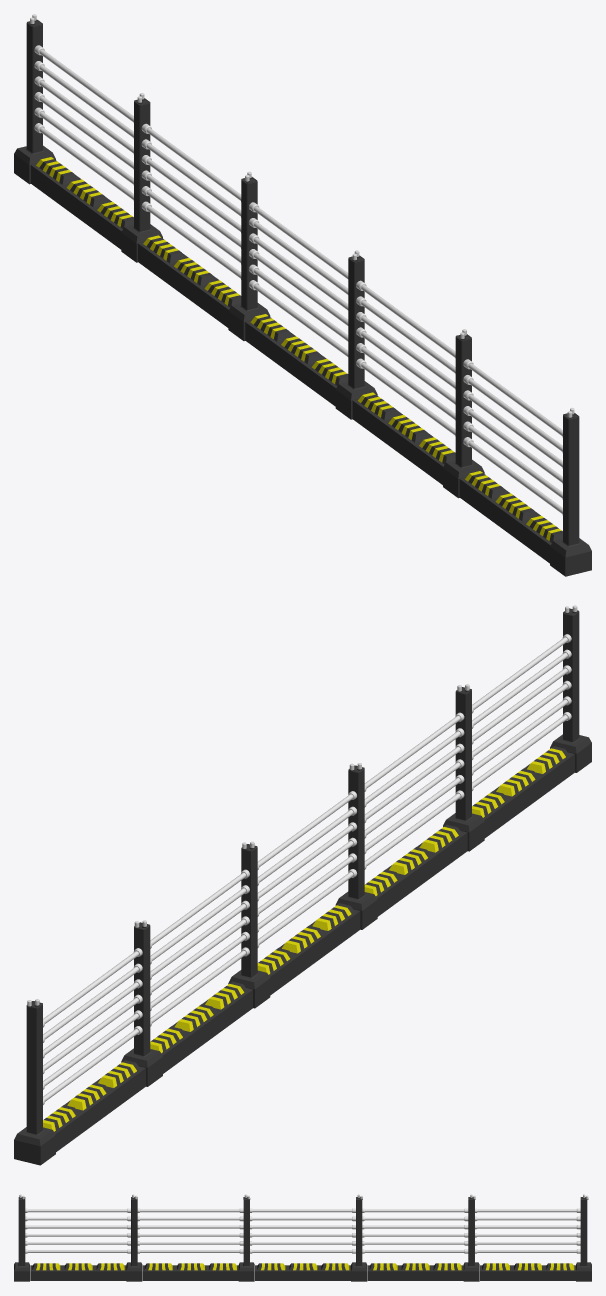
Rendered from fence.fbx.
3 renders of one model, top to bottom at view 1: azimuth 30°, elevation 25°; view 2: azimuth 150°, elevation 25°; view 3: azimuth 270°, elevation 25°, orthographic. The views are drawn at different scales.
Visible parts, largest first — view 1: Plane, Circle.002, Circle.003, Circle.001, Circle, Circle.004, Plane.005, Plane.002, Plane.004, Plane.003, Plane.006; view 2: Plane, Circle.001, Circle.003, Circle.002, Circle.004, Circle, Plane.003, Plane.005, Plane.002, Plane.004, Plane.006; view 3: Plane, Circle.002, Circle.001, Circle, Circle.003, Circle.004, Plane.002, Plane.004, Plane.003, Plane.005, Plane.006.
Boxes of the visible parts, x1,y1,x2,y2 form: Plane: [14, 20, 591, 576]; Circle.002: [141, 123, 241, 279]; Circle.003: [248, 202, 348, 356]; Circle.001: [356, 280, 455, 436]; Circle: [463, 359, 562, 515]; Circle.004: [34, 45, 133, 200]; Plane.005: [245, 314, 348, 406]; Plane.002: [459, 471, 562, 563]; Plane.004: [138, 235, 241, 327]; Plane.003: [352, 392, 455, 484]; Plane.006: [31, 157, 133, 249]; Plane: [14, 608, 591, 1165]; Circle.001: [364, 712, 464, 869]; Circle.003: [257, 791, 357, 947]; Circle.002: [150, 869, 249, 1026]; Circle.004: [43, 948, 142, 1104]; Circle: [472, 634, 571, 790]; Plane.003: [364, 824, 467, 916]; Plane.005: [257, 903, 360, 995]; Plane.002: [472, 746, 574, 838]; Plane.004: [150, 981, 252, 1073]; Plane.006: [43, 1060, 145, 1151]; Plane: [14, 1197, 591, 1281]; Circle.002: [362, 1208, 468, 1253]; Circle.001: [137, 1208, 243, 1253]; Circle: [25, 1208, 130, 1253]; Circle.003: [250, 1208, 355, 1253]; Circle.004: [475, 1208, 580, 1253]; Plane.002: [30, 1263, 126, 1280]; Plane.004: [367, 1263, 463, 1280]; Plane.003: [142, 1263, 238, 1280]; Plane.005: [255, 1263, 350, 1280]; Plane.006: [480, 1263, 575, 1280].
Size of the model in its own units: 100 by 568 by 3600.
